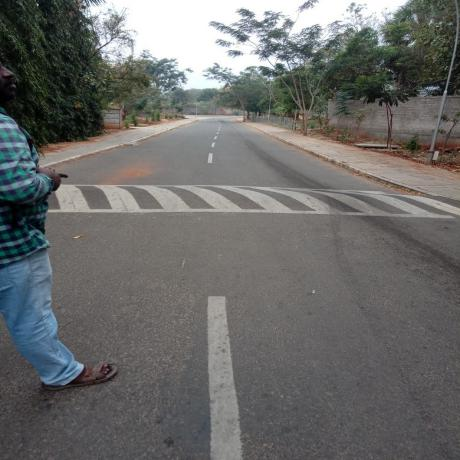Speed Bump: (47, 184, 460, 214)
